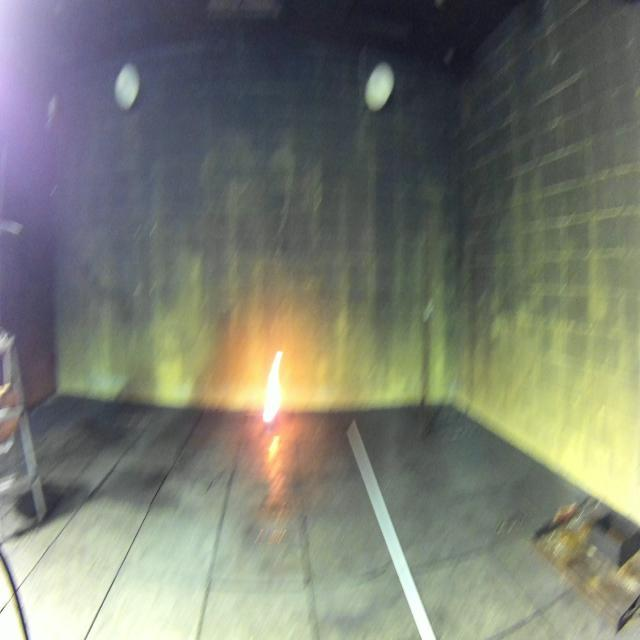Fire: (262, 351, 284, 424)
